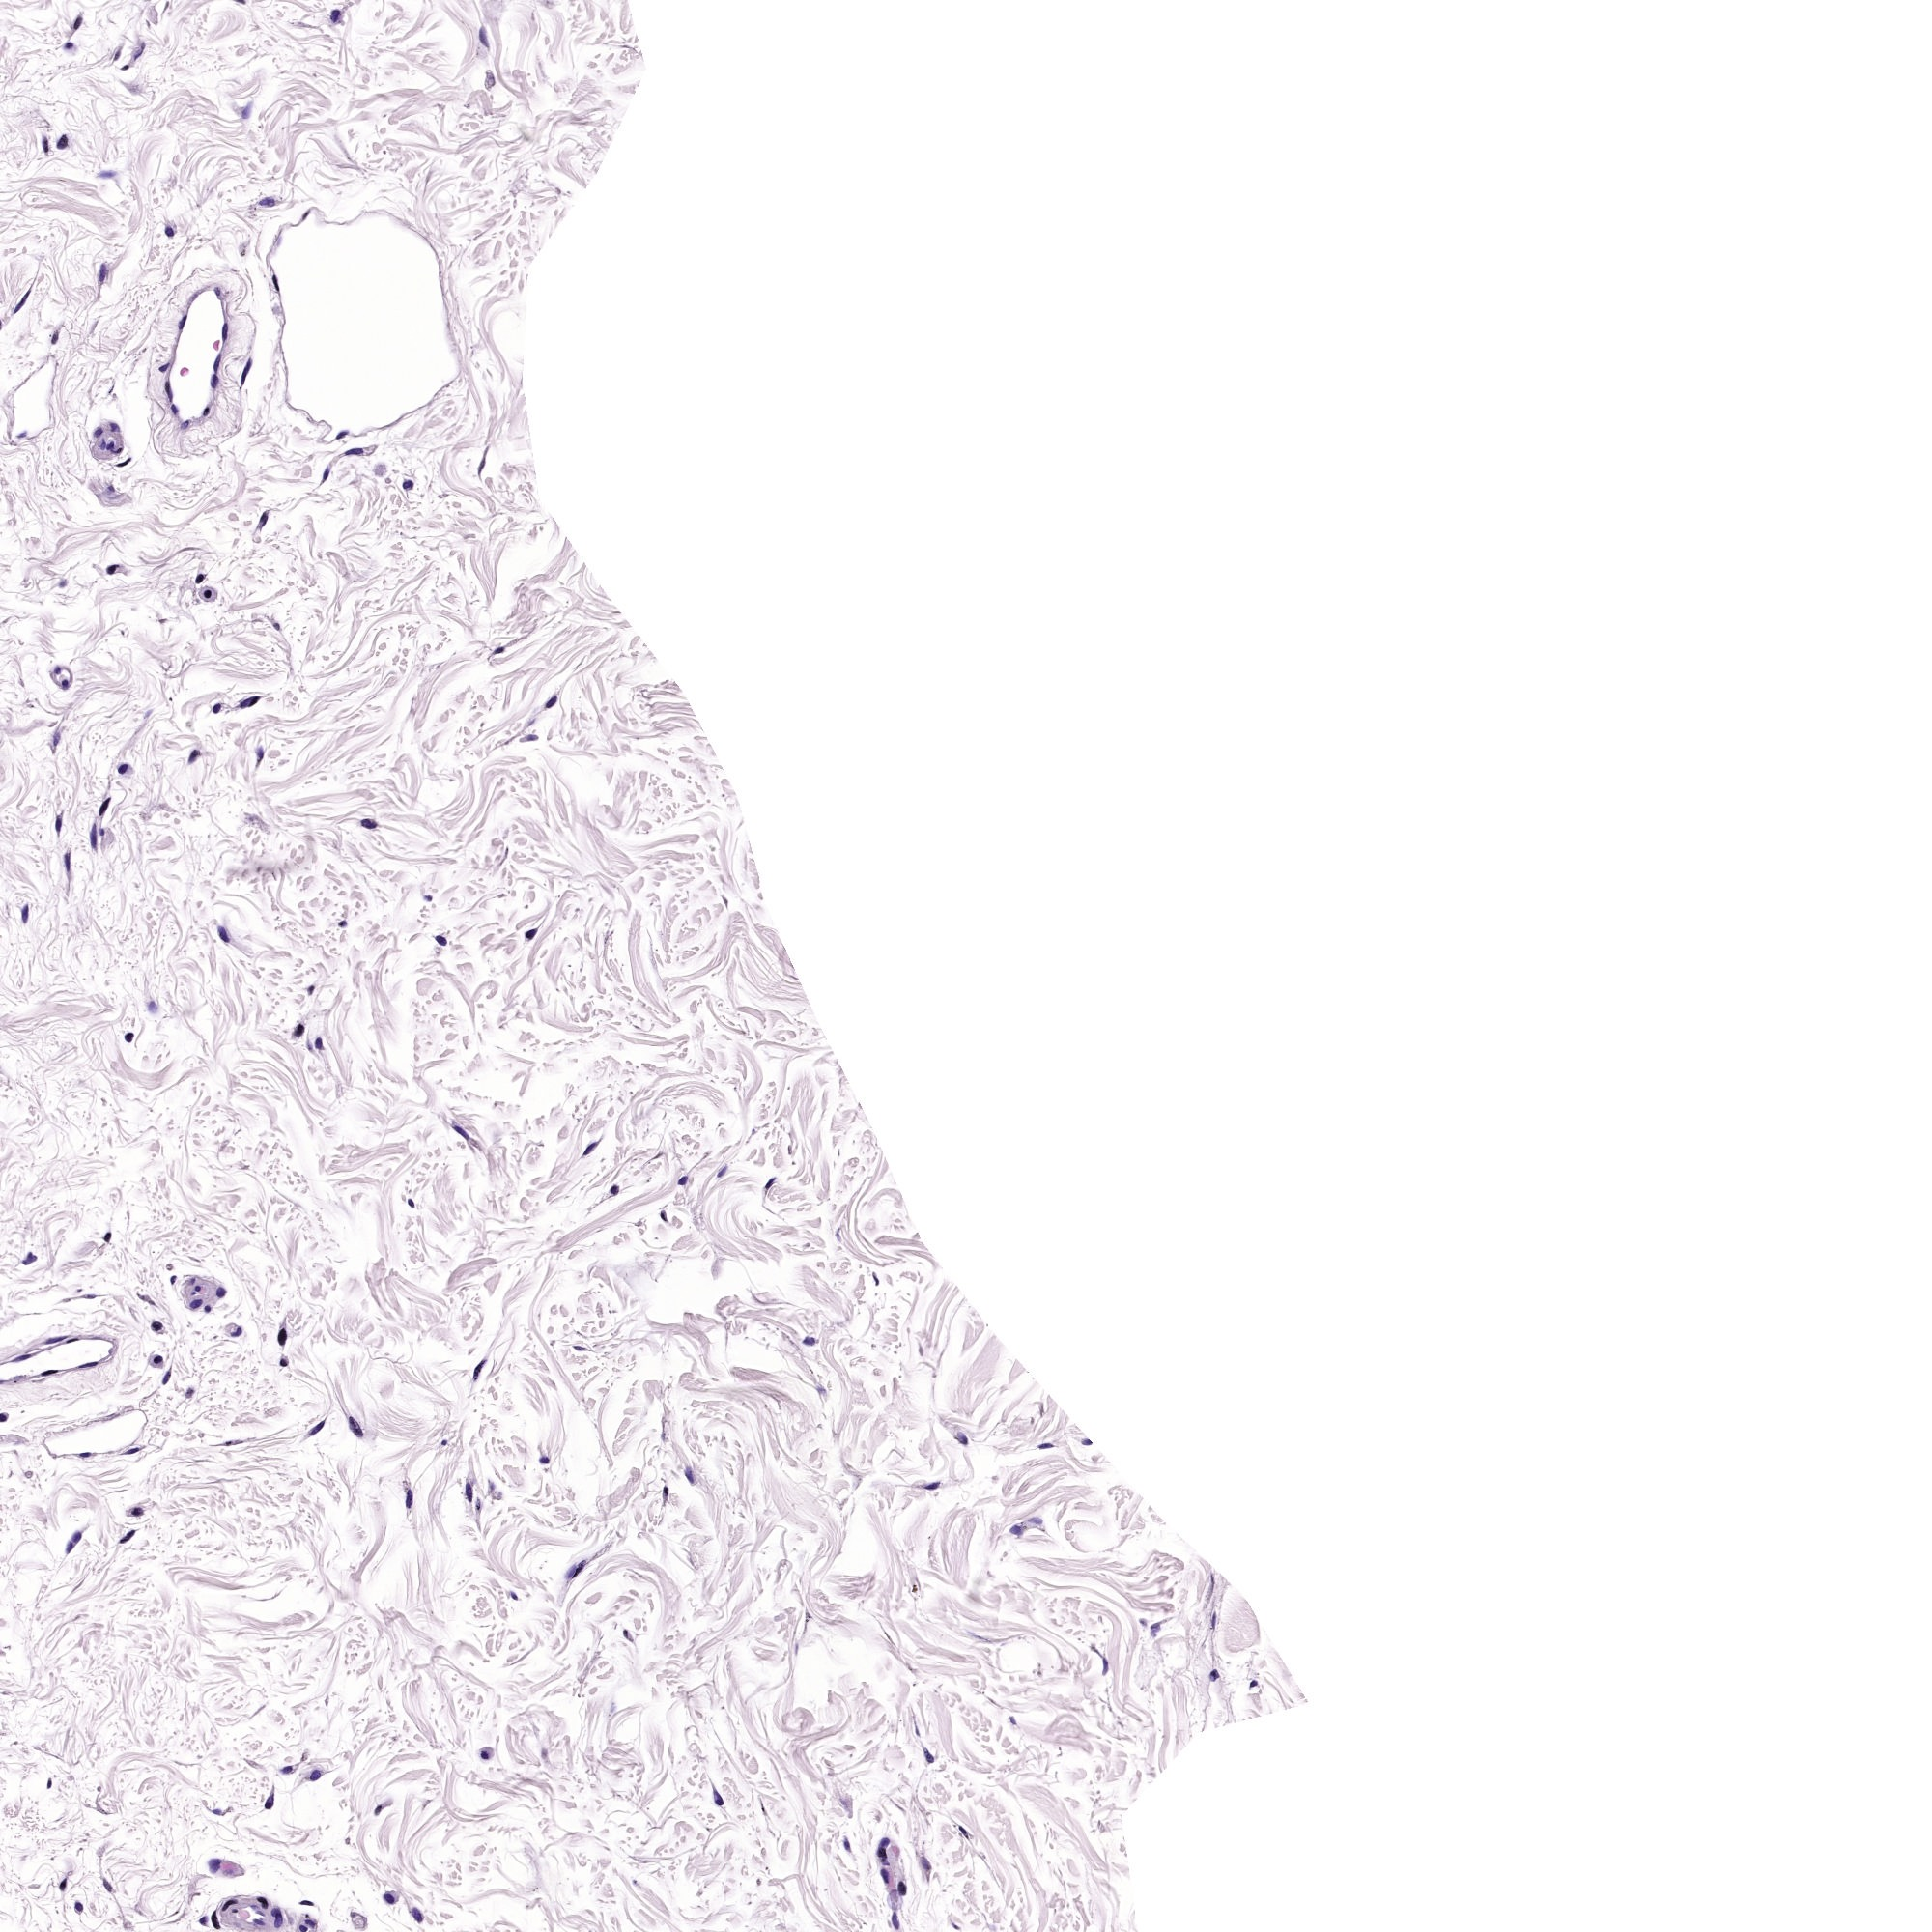epithelial: (202, 1920, 203, 1923)
fibroblast and endothelial: (311, 1428, 318, 1433), (354, 1424, 359, 1430), (893, 1920, 897, 1927), (216, 361, 219, 366), (92, 833, 96, 839), (19, 301, 23, 304), (166, 387, 170, 391), (354, 449, 357, 453), (442, 939, 446, 943), (681, 1178, 685, 1182), (223, 1288, 225, 1295), (541, 1460, 545, 1463), (577, 1568, 580, 1571), (127, 1534, 131, 1537), (416, 1914, 423, 1916), (248, 701, 253, 702), (221, 932, 223, 938), (366, 823, 372, 824), (722, 1171, 724, 1177), (281, 1332, 283, 1338), (931, 1486, 936, 1488), (690, 1474, 692, 1479), (467, 1490, 469, 1495), (108, 1886, 110, 1891), (214, 1859, 216, 1865), (258, 1921, 264, 1923), (214, 1920, 216, 1925), (62, 140, 64, 143), (483, 35, 485, 39), (103, 274, 104, 278), (274, 280, 276, 283), (214, 380, 216, 384), (115, 426, 117, 430), (552, 699, 554, 702), (193, 754, 195, 757), (264, 517, 265, 520), (103, 803, 106, 805), (531, 932, 533, 936), (770, 1182, 771, 1185), (962, 1437, 964, 1440), (1214, 1619, 1215, 1622), (571, 1569, 573, 1573), (626, 1631, 628, 1635), (513, 1596, 517, 1598), (67, 1543, 69, 1546), (62, 1882, 64, 1886), (214, 1867, 216, 1870), (216, 1812, 219, 1813), (315, 1773, 317, 1776), (377, 1808, 380, 1810), (228, 1902, 230, 1905), (262, 1898, 264, 1902), (310, 1920, 311, 1923), (929, 1757, 932, 1759), (927, 1861, 929, 1865), (883, 1852, 885, 1856), (883, 1875, 886, 1877), (902, 1886, 906, 1888), (117, 55, 119, 57), (267, 202, 269, 203), (180, 322, 182, 324), (205, 412, 207, 414), (111, 446, 113, 448), (119, 449, 120, 451), (499, 649, 501, 651), (57, 669, 58, 671), (195, 1304, 196, 1306), (48, 1371, 50, 1373), (85, 1454, 87, 1456), (133, 1451, 134, 1453), (207, 1307, 209, 1309), (579, 1348, 580, 1350), (1085, 1442, 1086, 1444), (1035, 1518, 1037, 1520), (407, 1499, 409, 1500), (285, 1769, 287, 1771), (278, 1914, 280, 1916), (352, 1913, 354, 1914), (276, 626, 278, 628)
inflammatory: (299, 1028, 301, 1033), (207, 591, 209, 594), (589, 1148, 591, 1152), (283, 1361, 285, 1364), (2, 1415, 4, 1419), (485, 1755, 488, 1757), (334, 14, 336, 16), (407, 485, 409, 487), (458, 1129, 460, 1131), (318, 1042, 320, 1044), (156, 1325, 157, 1327)
lymphocyte: (170, 232, 172, 235), (168, 1375, 170, 1376)
